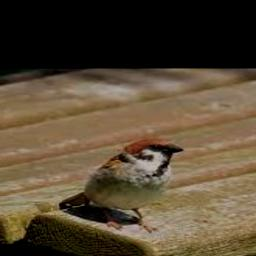Sparrow: (59, 139, 183, 232)
